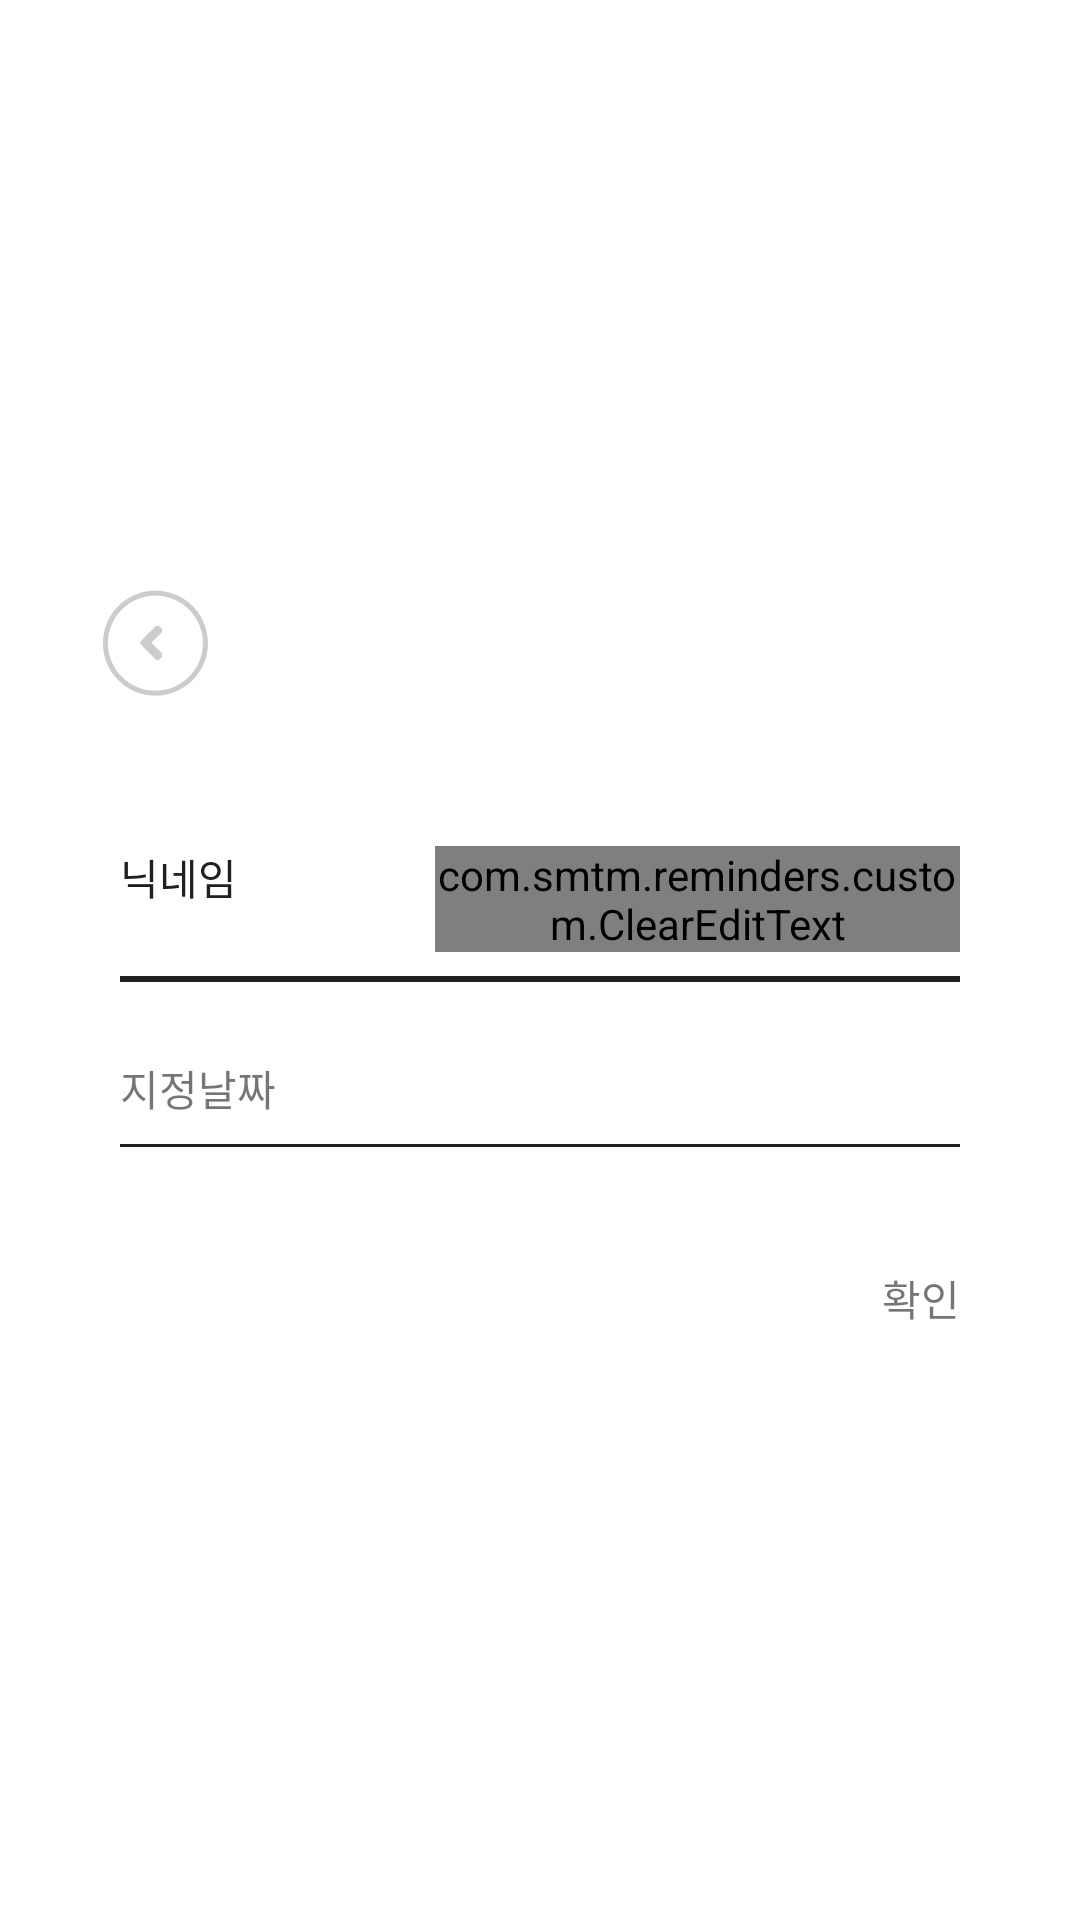

Icons on this 1080w x 1920h Android screen, each with the point to tap as point (x, y):
back: point (155, 643)
